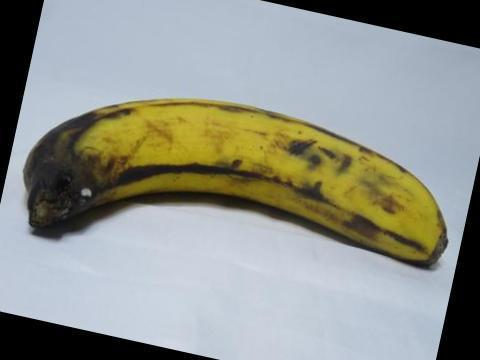overripe: (5, 83, 451, 283)
rotten: (8, 108, 135, 227)
